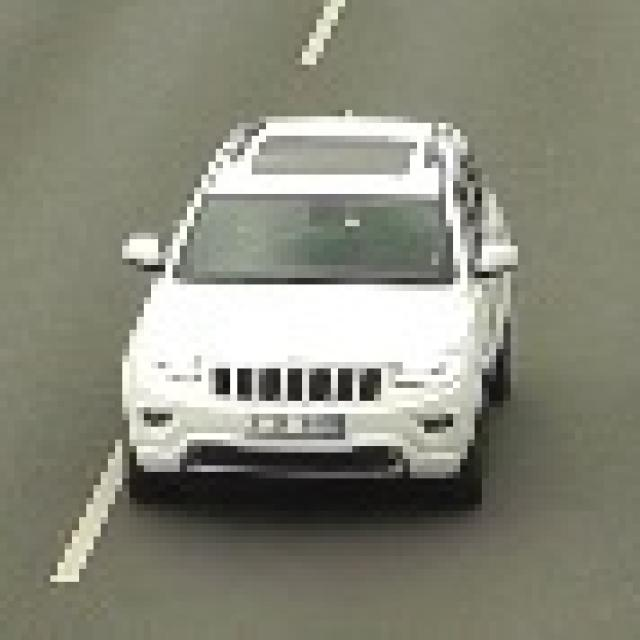SUV: (143, 125, 466, 508)
